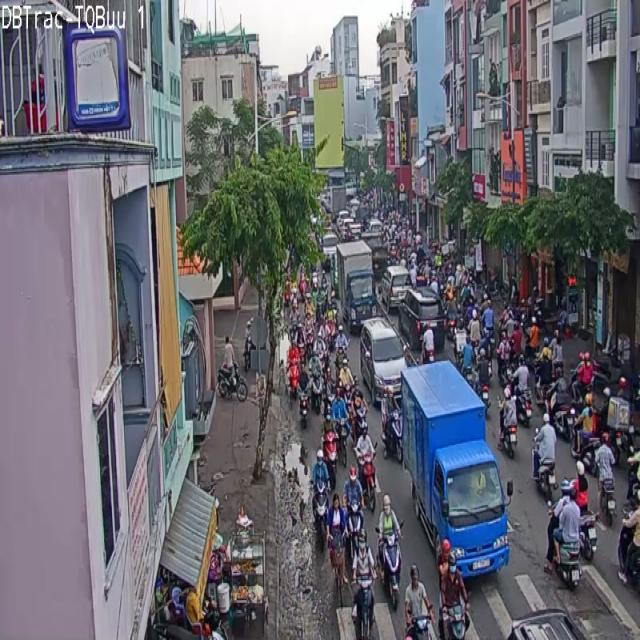car: (376, 495, 402, 607), (352, 530, 375, 639), (343, 466, 363, 569), (354, 431, 374, 499), (312, 451, 328, 535), (323, 430, 337, 489)
truck: (402, 361, 509, 577), (360, 317, 406, 402), (336, 240, 374, 324)
